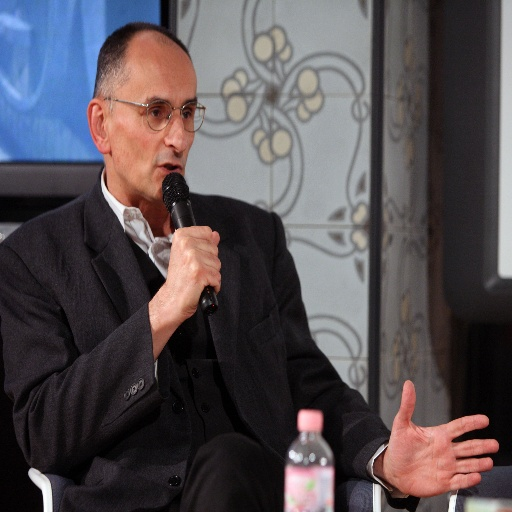hand: (381, 402, 492, 504), (166, 225, 221, 320)
